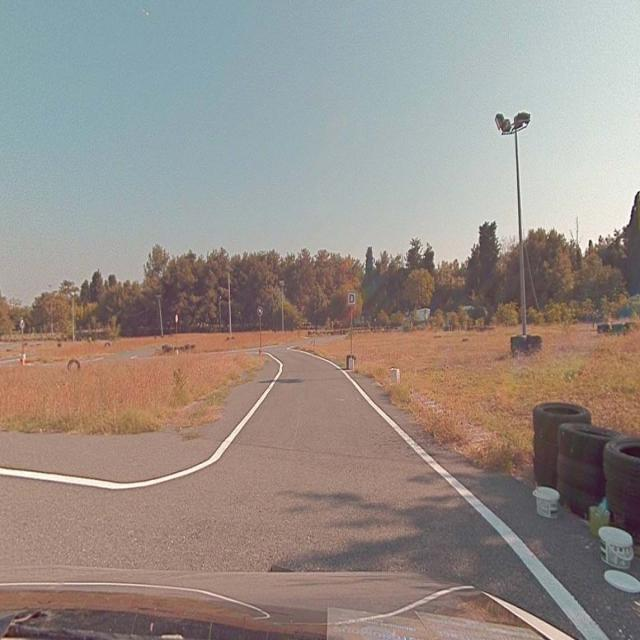durak: (347, 290, 356, 306)
sol: (257, 306, 263, 316)
